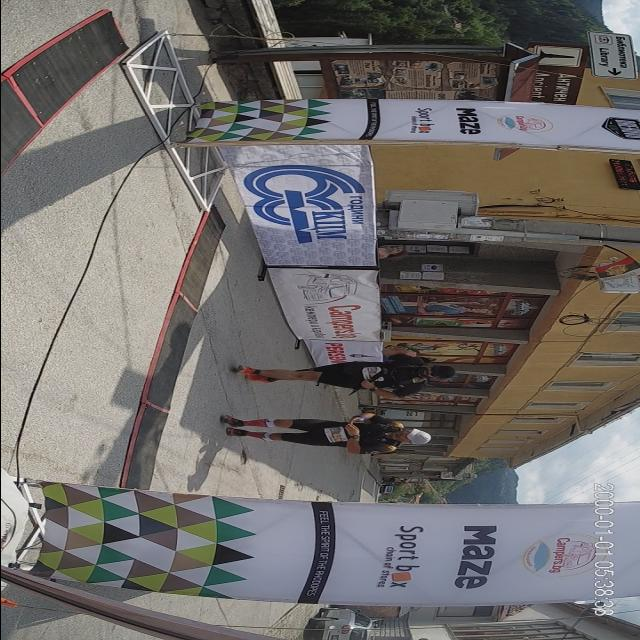runner: (210, 405, 464, 460), (227, 345, 476, 395)
